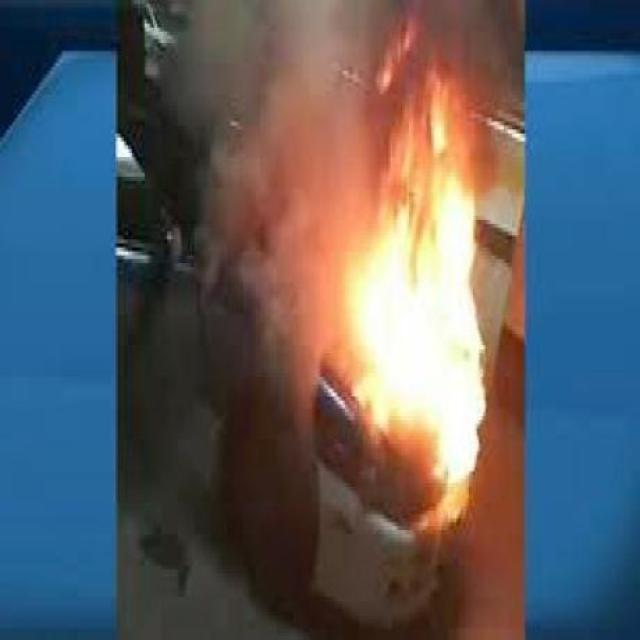Fire: (351, 70, 509, 479)
Smoke: (150, 2, 344, 396), (343, 0, 534, 73)
